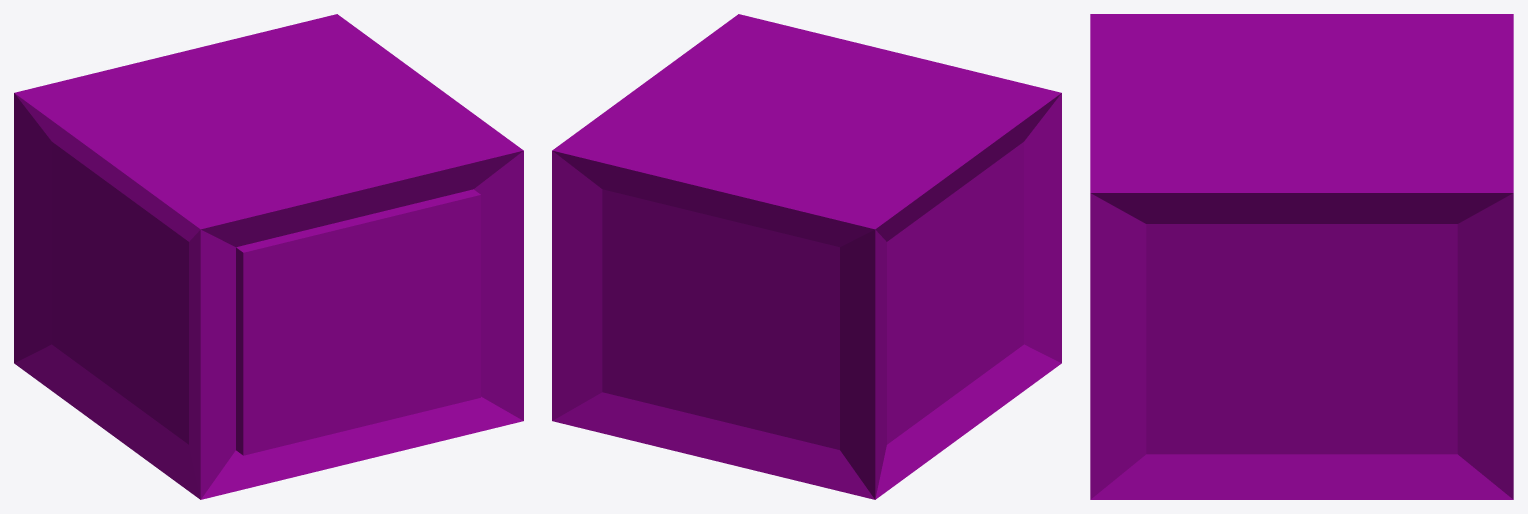
The model's file is AltitudeSensor.obj.
The picture shows the model from 3 angles, left to right: view 1: azimuth 30°, elevation 25°; view 2: azimuth 150°, elevation 25°; view 3: azimuth 270°, elevation 25°; orthographic projection. The views are drawn at different scales.
Parts seen in each view (by area): view 1: Handle; view 2: Handle; view 3: Handle.
Part boxes in pixels (x1=…): Handle: x1=14, y1=14, x2=523, y2=499; Handle: x1=552, y1=14, x2=1061, y2=499; Handle: x1=1090, y1=14, x2=1513, y2=499.
Bounding box in the file's own units: 0.6 × 0.48 × 0.6.
